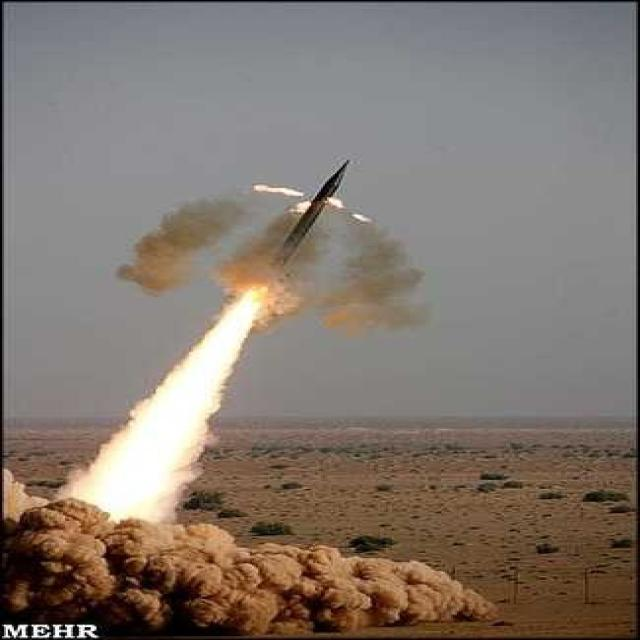missile: (246, 163, 356, 288)
